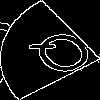Q: (25, 25, 100, 87)
